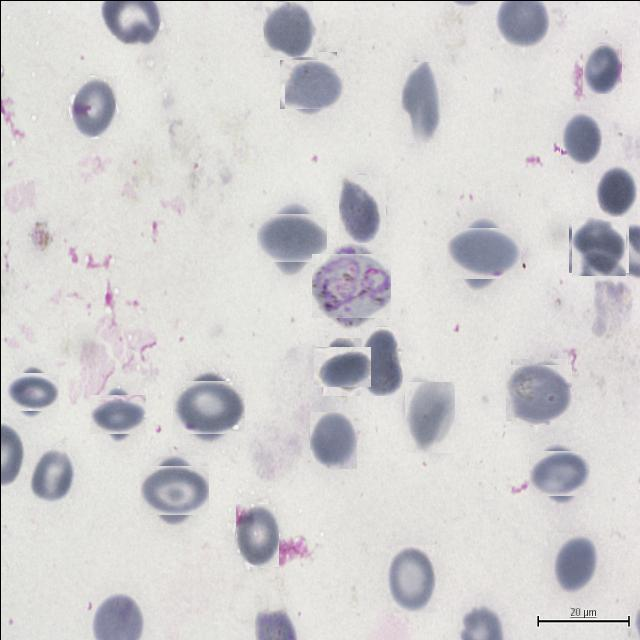red blood cell: (176, 375, 239, 438), (451, 221, 514, 284), (508, 360, 569, 422), (144, 460, 204, 520), (262, 207, 322, 267), (404, 382, 454, 454), (386, 544, 435, 612), (282, 55, 340, 112), (570, 216, 626, 274), (400, 61, 440, 142), (338, 174, 385, 242), (359, 326, 403, 395), (68, 75, 116, 138), (550, 532, 598, 594), (532, 446, 586, 500), (234, 502, 278, 566), (262, 0, 312, 56), (308, 410, 356, 468), (29, 446, 74, 503), (316, 342, 366, 391), (594, 162, 636, 218), (92, 390, 140, 438), (559, 110, 601, 164), (8, 368, 54, 414), (581, 42, 621, 93)
trophozoite: (314, 249, 386, 321)
